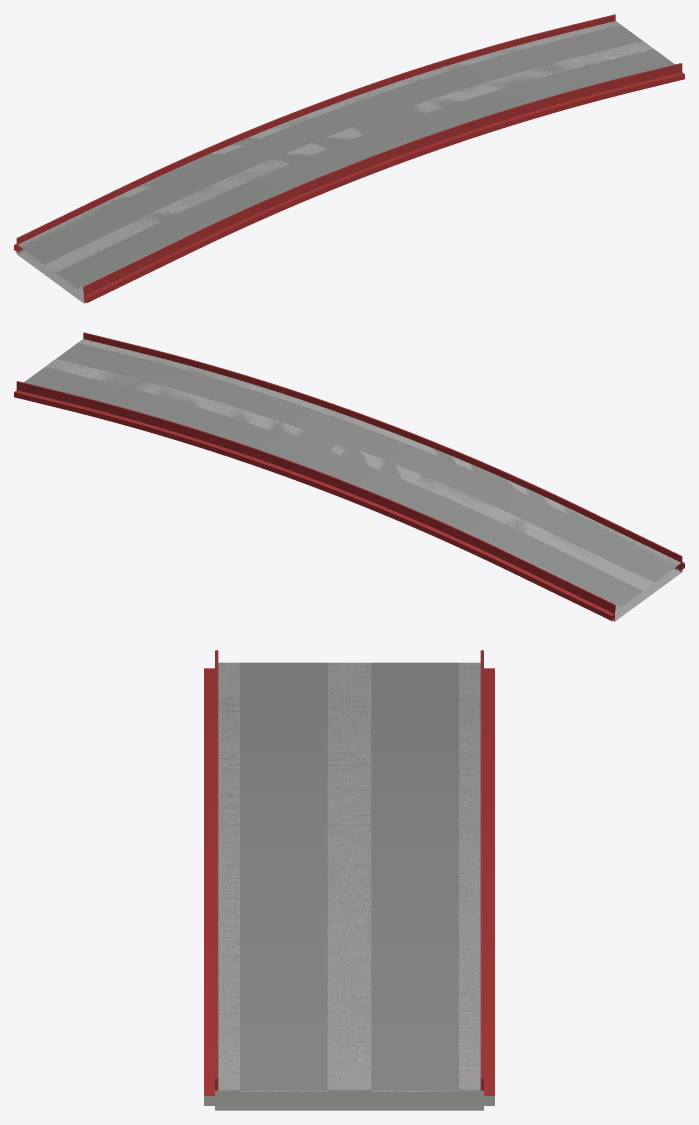
The model's file is cja_bridge_p1.dae.
3 renders of one model, top to bottom at view 1: azimuth 30°, elevation 25°; view 2: azimuth 150°, elevation 25°; view 3: azimuth 270°, elevation 25°, orthographic. The views are drawn at different scales.
Parts seen in each view (by area): view 1: cja_bridge_p1_a2, cja_bridge_p1_a800; view 2: cja_bridge_p1_a2, cja_bridge_p1_a800; view 3: cja_bridge_p1_a2, cja_bridge_p1_a800.
Boxes of the visible parts, left/top/right/bottom form: cja_bridge_p1_a2: left=16, top=16, right=680, bottom=302; cja_bridge_p1_a800: left=14, top=14, right=684, bottom=303; cja_bridge_p1_a2: left=18, top=339, right=682, bottom=618; cja_bridge_p1_a800: left=14, top=332, right=684, bottom=621; cja_bridge_p1_a2: left=218, top=662, right=480, bottom=1090; cja_bridge_p1_a800: left=204, top=650, right=494, bottom=1110.
Bounding box in the file's own units: 126 × 26.6 × 18.97.
